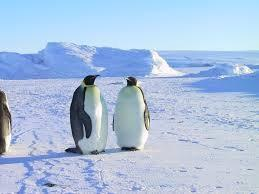emporer: (66, 65, 111, 162), (112, 71, 157, 160)
